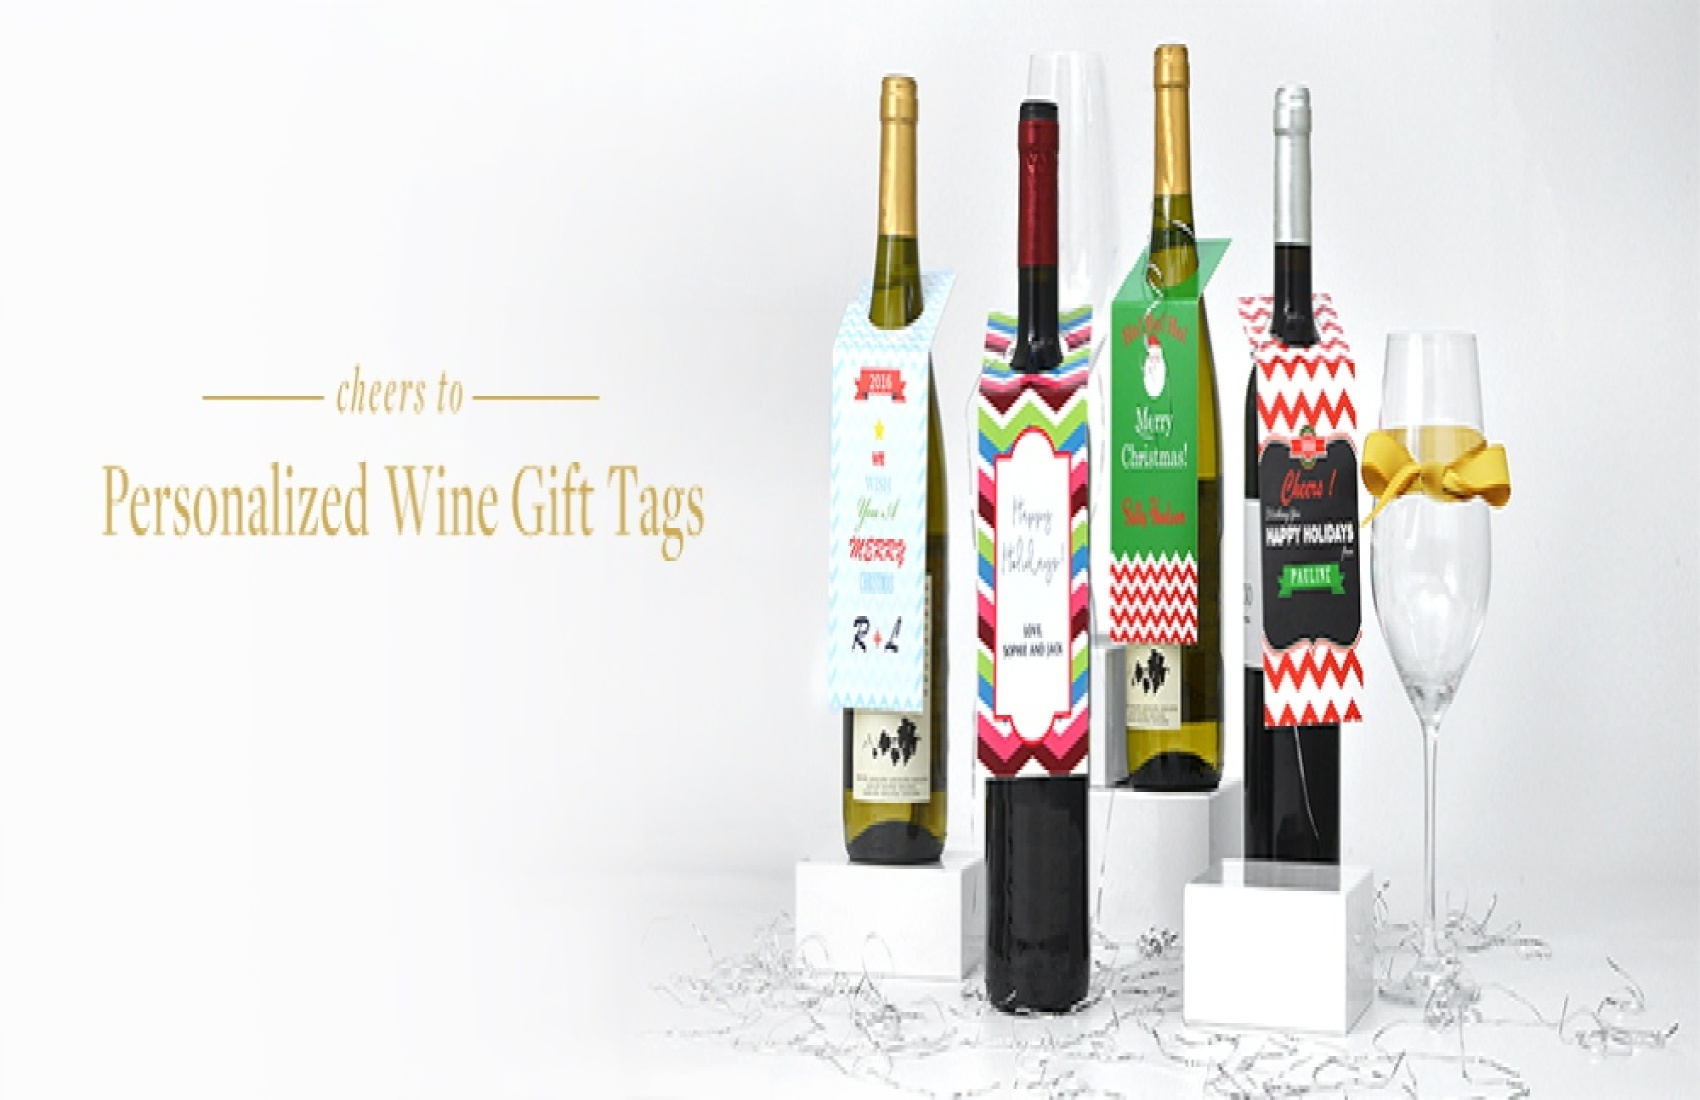wine: (968, 99, 1085, 984), (838, 58, 950, 863), (1240, 85, 1352, 892)
